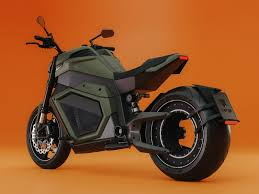motorcycle: (21, 17, 240, 184)
